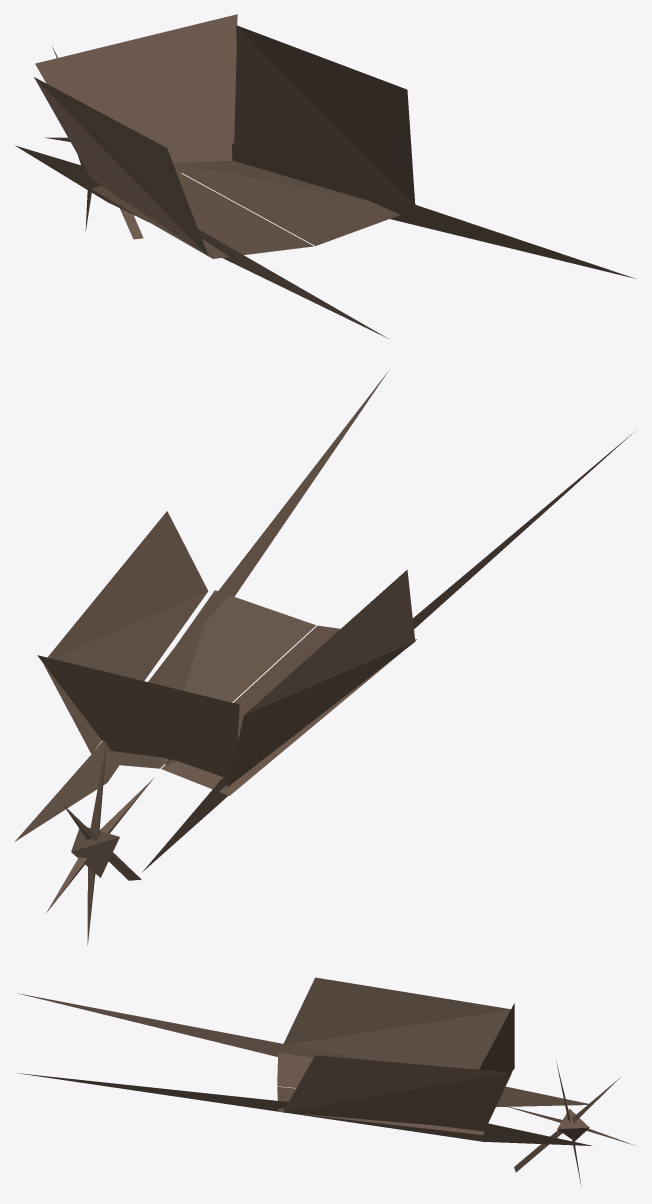
File: barrow.lod2.glb
3 renders of one model, top to bottom at view 1: azimuth 30°, elevation 25°; view 2: azimuth 150°, elevation 25°; view 3: azimuth 270°, elevation 25°, orthographic. The views are drawn at different scales.
Parts seen in each view (by area): view 1: Cube.007_M_Material_0; view 2: Cube.007_M_Material_0; view 3: Cube.007_M_Material_0.
Part boxes in pixels (x1,y1,x2,y2): Cube.007_M_Material_0: [15, 14, 635, 338]; Cube.007_M_Material_0: [15, 371, 634, 945]; Cube.007_M_Material_0: [16, 977, 633, 1187].
Size of the model in its own units: 0.5952 by 0.6002 by 1.96.
